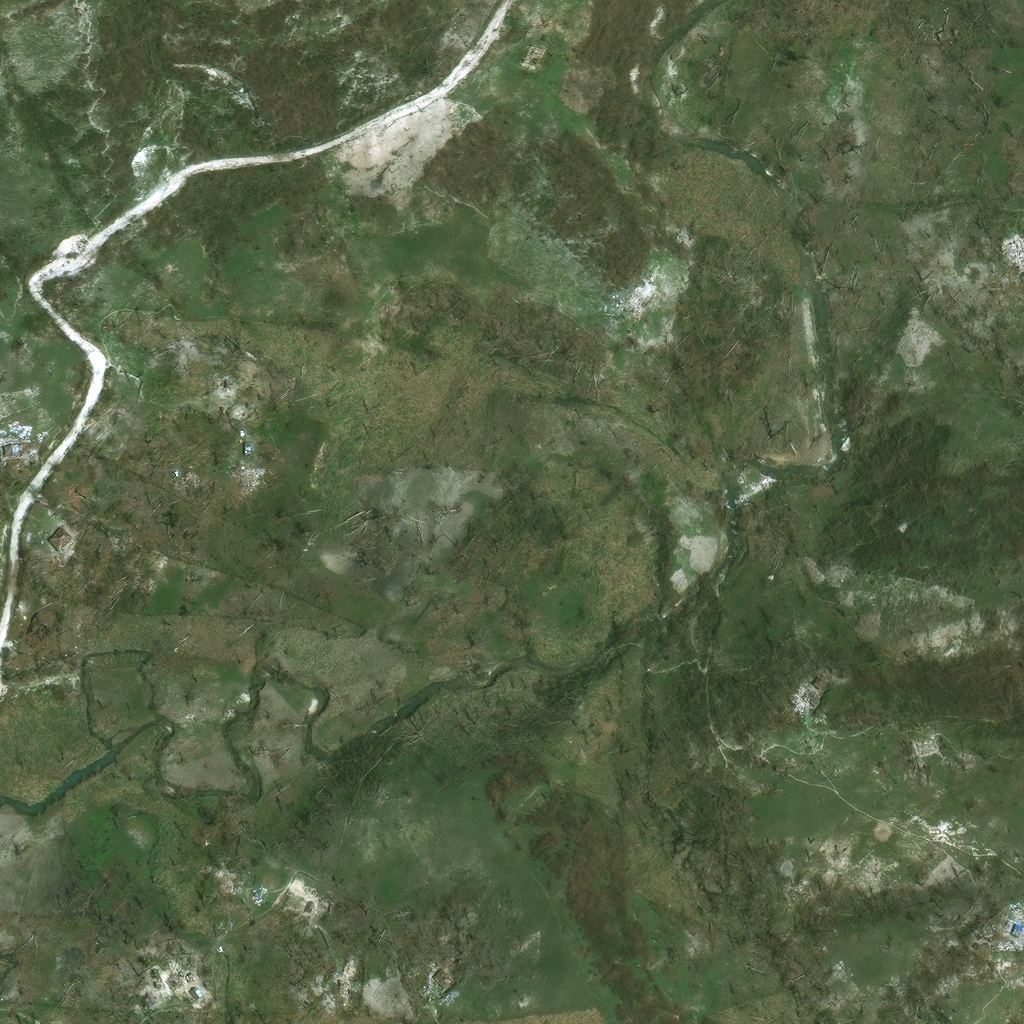destroyed: (619, 292, 644, 315), (169, 965, 194, 987), (497, 58, 514, 83), (916, 736, 939, 753), (0, 444, 24, 459), (239, 470, 257, 487), (1010, 236, 1023, 255), (344, 974, 358, 991), (871, 10, 885, 26), (351, 951, 364, 968), (321, 889, 336, 903), (212, 380, 229, 392), (972, 930, 983, 942), (234, 869, 243, 883), (232, 408, 240, 414)
major_damage: (983, 924, 1010, 946), (439, 963, 463, 986)
minor_damage: (52, 519, 80, 548), (810, 682, 829, 701)
no_damage: (753, 461, 772, 488), (939, 758, 952, 771)
unclassified: (35, 605, 62, 633), (154, 161, 168, 174)
